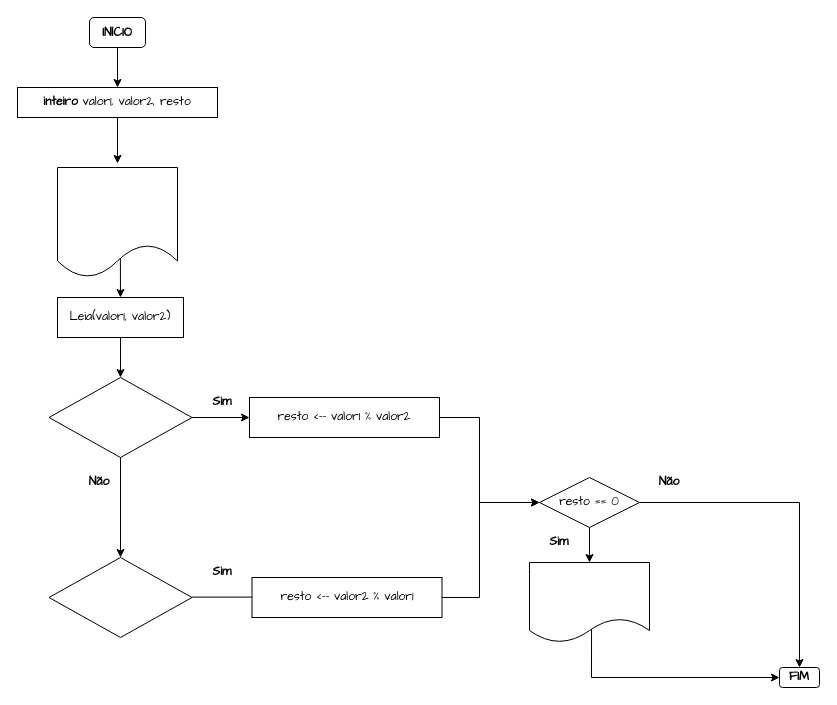
Some shapes in this 837 by 705 pixel diagram are drawn without their labels. Each missing label, with the centre of its shape:
Olá! Vamos verificar se um valor é divisor de outro. Digite dois valores:: the point at 117,222
valor1 > valor2: the point at 120,417
valor2 > valor1: the point at 120,597
É divisor!: the point at 589,602
